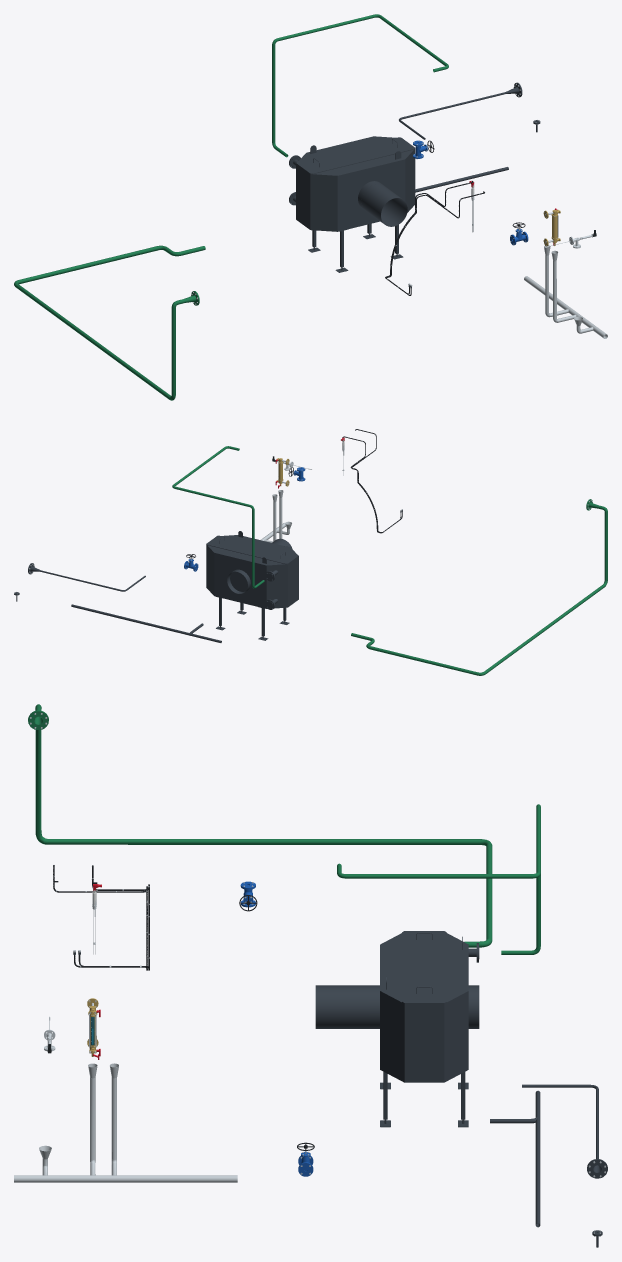
File: s4000-7-fTGpOfNk.glb
3 renders of one model, top to bottom at view 1: azimuth 30°, elevation 25°; view 2: azimuth 150°, elevation 25°; view 3: azimuth 270°, elevation 25°, orthographic. The views are drawn at different scales.
Visible parts, largest first — view 1: EQS2-2000 CAD 3, EQS2-2000 CAD 0, deaerator_feed / green, EQS2-2000 CAD 1, local_open_drains / steel, flue_spacer / dark, from_economizer / green, tds_to_fv / dark; view 2: EQS2-2000 CAD 0, EQS2-2000 CAD 3, deaerator_feed / green, EQS2-2000 CAD 2, from_economizer / green, local_open_drains / steel, bottom_discharge / dark; view 3: EQS2-2000 CAD 3, deaerator_feed / green, local_open_drains / steel, flue_spacer / dark, from_economizer / green, EQS2-2000 CAD 0, tds_to_fv / dark, bottom_discharge / dark.
Boxes of the visible parts, x1=… form: EQS2-2000 CAD 3: x1=296, y1=136, x2=415, y2=229; EQS2-2000 CAD 0: x1=308, y1=159, x2=405, y2=272; deaerator_feed / green: x1=14, y1=245, x2=205, y2=400; EQS2-2000 CAD 1: x1=310, y1=174, x2=337, y2=231; local_open_drains / steel: x1=524, y1=245, x2=607, y2=338; flue_spacer / dark: x1=361, y1=184, x2=407, y2=226; from_economizer / green: x1=272, y1=14, x2=448, y2=157; tds_to_fv / dark: x1=399, y1=82, x2=522, y2=139; EQS2-2000 CAD 0: x1=214, y1=553, x2=289, y2=640; EQS2-2000 CAD 3: x1=206, y1=531, x2=298, y2=607; deaerator_feed / green: x1=351, y1=499, x2=607, y2=675; EQS2-2000 CAD 2: x1=265, y1=564, x2=287, y2=609; from_economizer / green: x1=172, y1=446, x2=264, y2=588; local_open_drains / steel: x1=260, y1=490, x2=292, y2=542; bottom_discharge / dark: x1=71, y1=604, x2=221, y2=642; EQS2-2000 CAD 3: x1=380, y1=931, x2=468, y2=1082; deaerator_feed / green: x1=28, y1=704, x2=492, y2=947; local_open_drains / steel: x1=14, y1=1063, x2=237, y2=1182; flue_spacer / dark: x1=315, y1=985, x2=369, y2=1028; from_economizer / green: x1=337, y1=804, x2=540, y2=954; EQS2-2000 CAD 0: x1=369, y1=985, x2=479, y2=1127; tds_to_fv / dark: x1=522, y1=1084, x2=607, y2=1178; bottom_discharge / dark: x1=535, y1=1090, x2=540, y2=1227.
Bounding box in the file's own units: 8.53 × 2.86 × 5.5.
